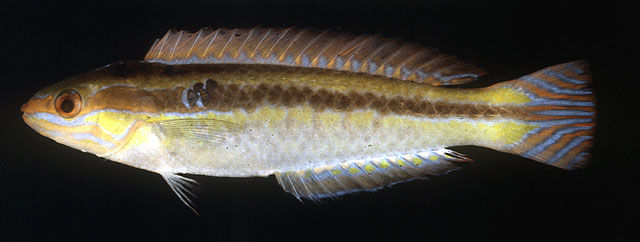fish: (20, 26, 596, 216)
